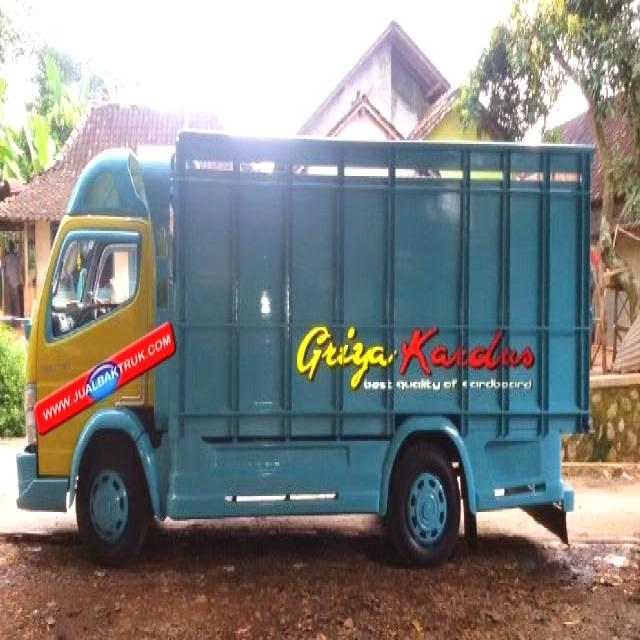truck: (15, 127, 597, 575)
